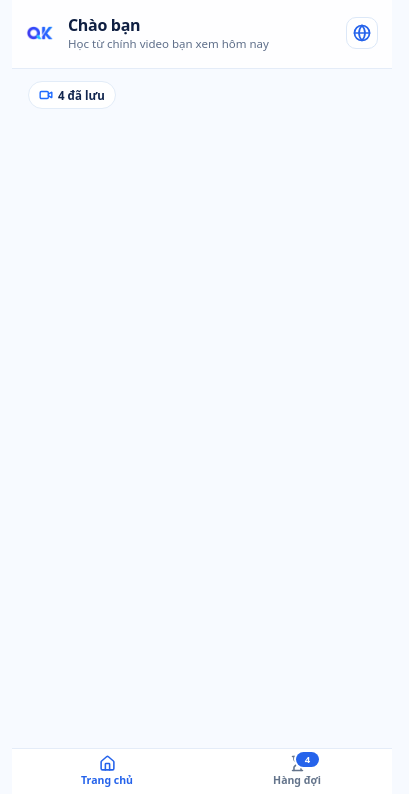
App — popup lưu trang hiện tại + hàng đợi › (r2) nút xoá: xác nhận rồi xoá link khỏi hàng đợi (chưa liên kết → chỉ xoá local)
The image size is (409, 794).
Later steps or results of the test are not shown.
What coordinates should you click on to do the following:
click the button with test id "tab-queue"
I would click on:
 (297, 772)
Its box is [202,749,392,793].
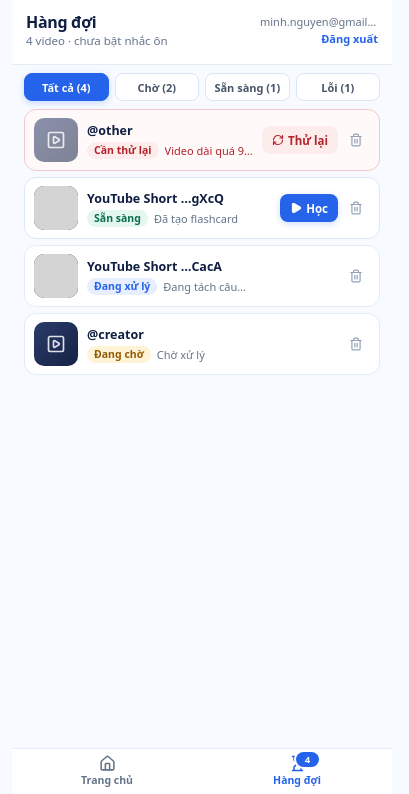
Now the number of buttons with test id "delete-link" is 4, box [342,126,370,154]; [342,194,370,222]; [342,262,370,290]; [342,330,370,358]
